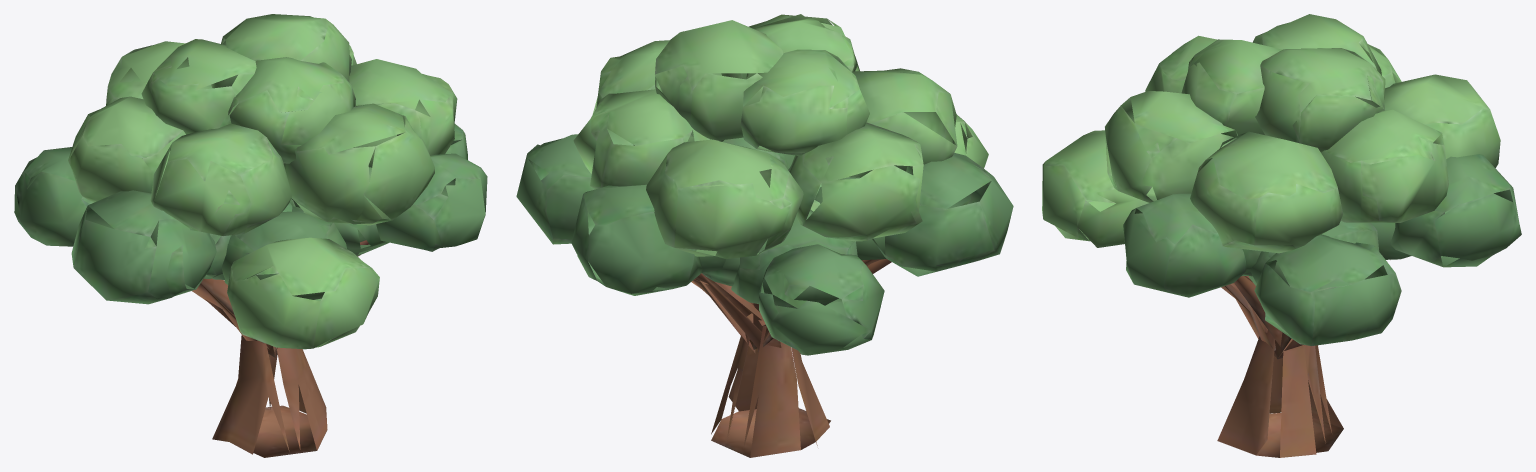
File: oak-tree.glb
3 renders of one model, left to right at view 1: azimuth 30°, elevation 25°; view 2: azimuth 150°, elevation 25°; view 3: azimuth 270°, elevation 25°, orthographic. The views are drawn at different scales.
Visible parts, largest first — view 1: oak-tree_body; view 2: oak-tree_body; view 3: oak-tree_body.
Boxes of the visible parts, x1=… form: oak-tree_body: x1=14, y1=14, x2=487, y2=457; oak-tree_body: x1=516, y1=14, x2=1013, y2=457; oak-tree_body: x1=1042, y1=14, x2=1521, y2=457.
Size of the model in its own units: 7.59 by 6.84 by 7.43.
1 material, 1 textured.
